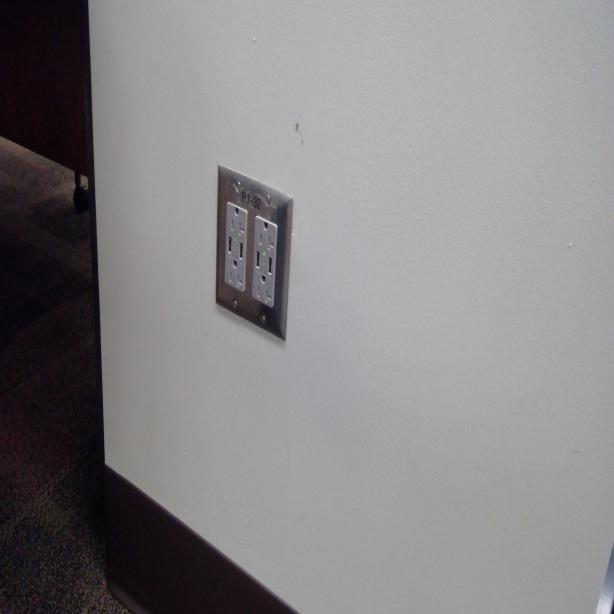typeb: (226, 202, 247, 242), (256, 216, 277, 256), (253, 270, 274, 306), (224, 257, 245, 292)
